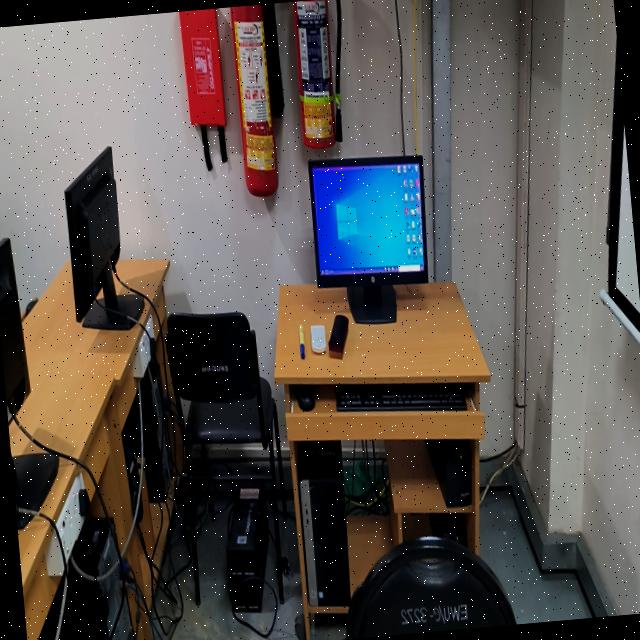Chair: (166, 311, 288, 604), (345, 537, 517, 639), (206, 480, 215, 520)
Cpu: (58, 517, 135, 640), (297, 441, 350, 606), (140, 358, 170, 501), (38, 583, 63, 640), (122, 398, 140, 464)
Fire Extinguisher: (230, 4, 278, 196), (293, 0, 338, 148)
Keyboard: (335, 383, 466, 411)
Monitor: (309, 155, 427, 323), (65, 147, 144, 329), (0, 238, 30, 424), (10, 450, 59, 528)
Mouse: (294, 385, 315, 411)
